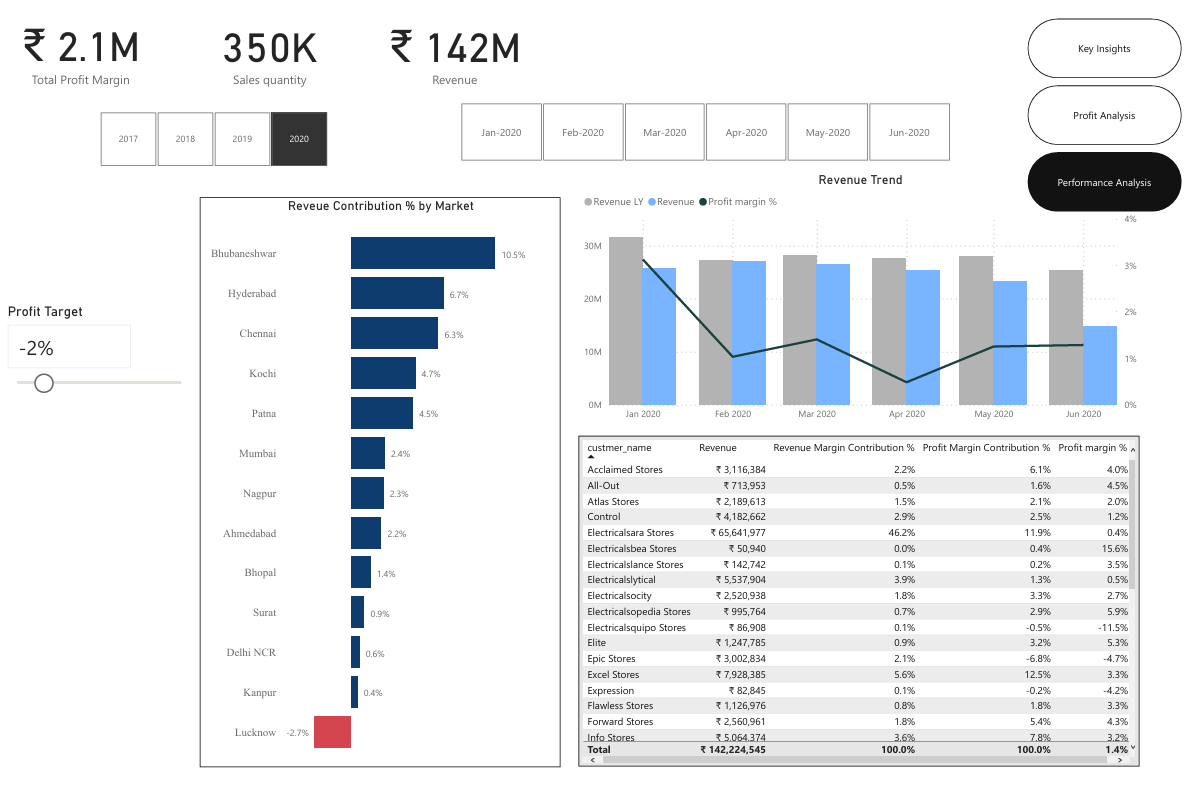

What the dashboard file says about the page in this screenshot:
{"tool":"powerbi","page":{"name":"Performance  Analysis","canvas":[1600,1050],"ordinal":2},"visuals":[{"type":"card","fields":{"Values":["Base measure.Total Profit Margin"]},"box":[0,0,221.4,130.7],"z":0},{"type":"slicer","fields":{"Values":["sales date.year"]},"box":[110.9,141.6,351.6,84.9],"z":1000},{"type":"slicer","fields":{"Values":["sales date.cy_date"]},"box":[592.2,129.8,700.8,89.7],"z":2000},{"type":"barChart","title":"Reveue Contribution % by Market","fields":{"Category":["sales markets.zone","sales markets.markets_name"],"Y":["Base measure.Profit margin %"]},"box":[269,261.9,481.3,759.8],"z":3000},{"type":"tableEx","title":"Top 5 Customers by Revenue","fields":{"Values":["sales customers.custmer_name","Base measure.Revenue","Base measure.Revenue Margin Contribution %","Base measure.Profit Margin Contribution %","Base measure.Profit margin %"]},"box":[773.9,580.4,748,441.2],"z":4000},{"type":"lineClusteredColumnComboChart","title":"Revenue Trend","fields":{"Y":["Base measure.Revenue LY","Base measure.Revenue"],"Category":["sales date.cy_date"],"Y2":["Base measure.Profit margin %"]},"box":[776.3,228.9,748,339.8],"z":5000},{"type":"card","fields":{"Values":["Base measure.Sales quantity"]},"box":[273.7,0,177,132.1],"z":6000},{"type":"card","fields":{"Values":["Base measure.Revenue"]},"box":[509.7,0,198.2,132.1],"z":7000},{"type":"slicer","fields":{"Values":["Profit Target.Profit Target"]},"box":[0,398.6,268,194.9],"z":8000},{"type":"pageNavigator","box":[1373.2,23.6,205.3,259.6],"z":9000}]}

Visuals, with their boxes in screenshot pixels (x1, y1, x2, y2), scaled from the page's 1600x1050 canvas onto the 1196x792 screenshot:
card - Base measure.Total Profit Margin: (left=0, top=0, right=165, bottom=99)
slicer - sales date.year: (left=83, top=107, right=346, bottom=171)
slicer - sales date.cy_date: (left=443, top=98, right=967, bottom=166)
"Reveue Contribution % by Market" barChart: (left=201, top=198, right=561, bottom=771)
"Top 5 Customers by Revenue" tableEx: (left=578, top=438, right=1138, bottom=771)
"Revenue Trend" lineClusteredColumnComboChart: (left=580, top=173, right=1139, bottom=429)
card - Base measure.Sales quantity: (left=205, top=0, right=337, bottom=100)
card - Base measure.Revenue: (left=381, top=0, right=529, bottom=100)
slicer - Profit Target.Profit Target: (left=0, top=301, right=200, bottom=448)
pageNavigator: (left=1026, top=18, right=1180, bottom=214)
